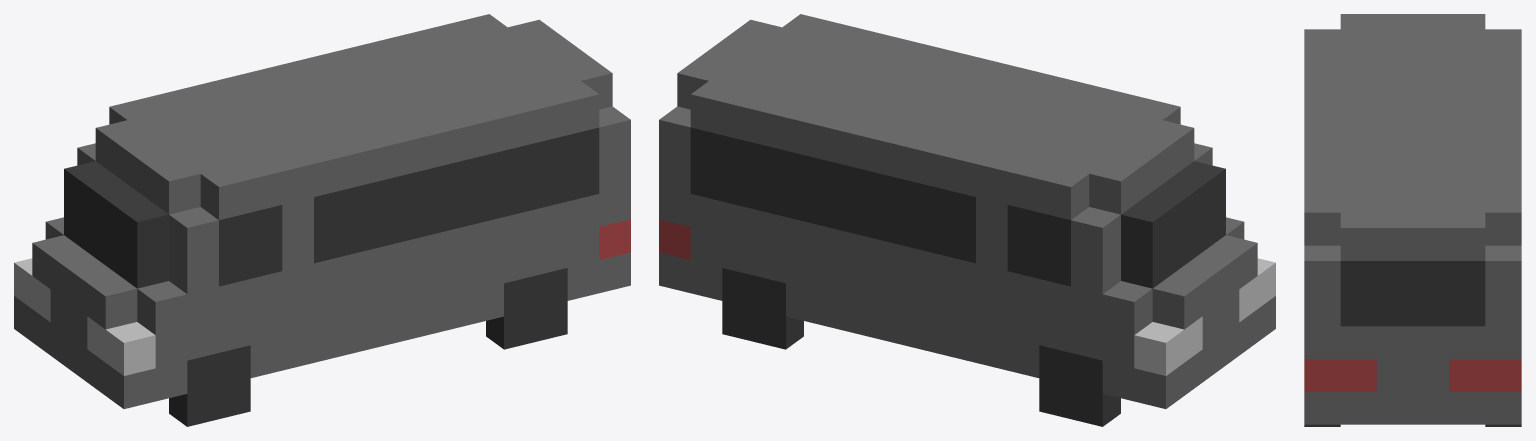
The model's file is bus-small-grey.gltf.
The picture shows the model from 3 angles, left to right: view 1: azimuth 30°, elevation 25°; view 2: azimuth 150°, elevation 25°; view 3: azimuth 270°, elevation 25°; orthographic projection.
Visible parts, largest first — view 1: model, wheels; view 2: model, wheels; view 3: model, wheels.
Boxes of the visible parts, <box> form: model: <box>14,14,630,408</box>; wheels: <box>169,268,567,426</box>; model: <box>659,14,1275,408</box>; wheels: <box>722,268,1120,426</box>; model: <box>1304,14,1521,424</box>; wheels: <box>1304,424,1521,426</box>.
Size of the model in its own units: 1.6 by 0.7 by 0.6.
Materials: 2 (2 with a texture image).
